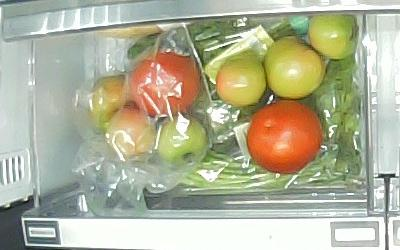tomato: (247, 99, 323, 173), (264, 35, 325, 99), (214, 57, 266, 105), (308, 13, 359, 59)
tomato_vinyl: (131, 51, 200, 117), (107, 107, 157, 158), (158, 116, 207, 167)
